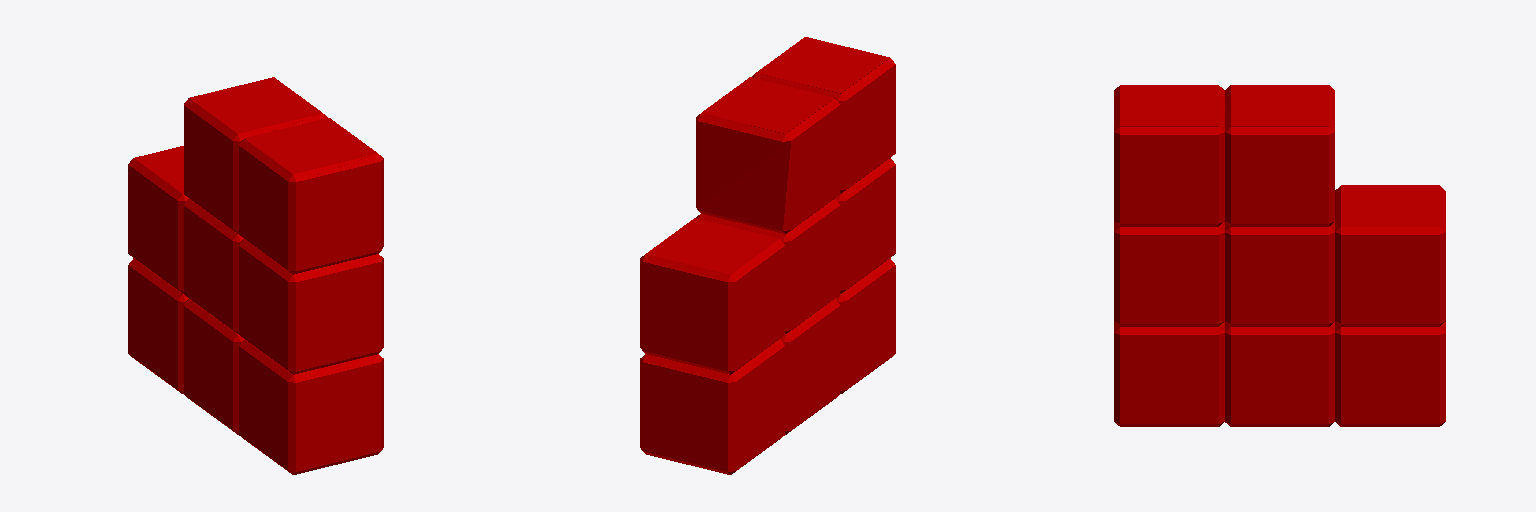
Rendered from piece3.obj.
3 renders of one model, left to right at view 1: azimuth 30°, elevation 25°; view 2: azimuth 150°, elevation 25°; view 3: azimuth 270°, elevation 25°, orthographic.
Parts seen in each view (by area): view 1: Cube.003; view 2: Cube.003; view 3: Cube.003.
Boxes of the visible parts, box(x1,y1,x2,y2) form: Cube.003: box(128, 77, 383, 474); Cube.003: box(640, 37, 895, 474); Cube.003: box(1114, 85, 1445, 426).
Size of the model in its own units: 2 by 6.01 by 6.